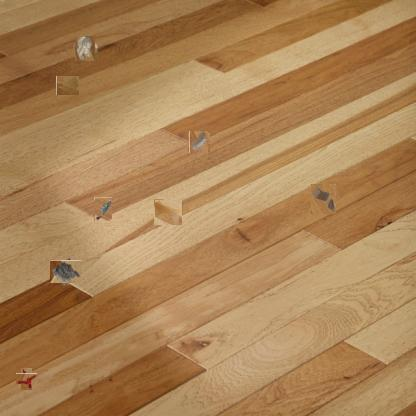dirty: (309, 185, 337, 213), (52, 258, 79, 285), (73, 37, 97, 59), (94, 197, 112, 221), (189, 132, 209, 153), (18, 371, 35, 387)
liquid: (154, 199, 182, 225), (56, 75, 79, 95)
